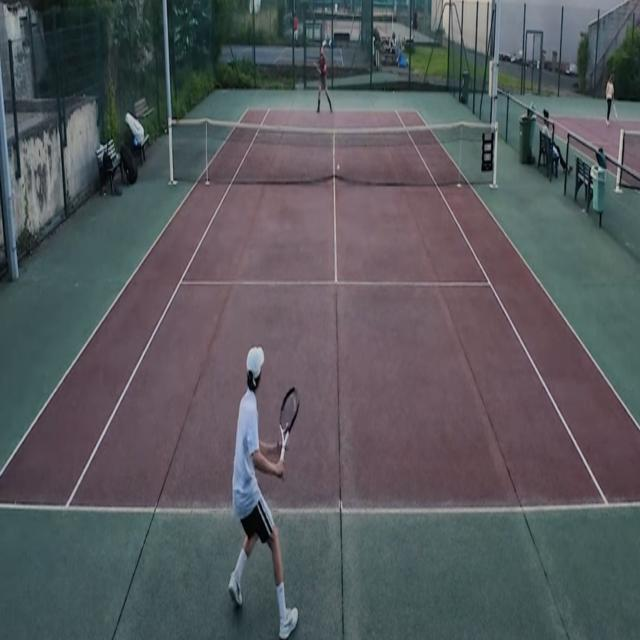ball: (337, 163, 340, 171)
